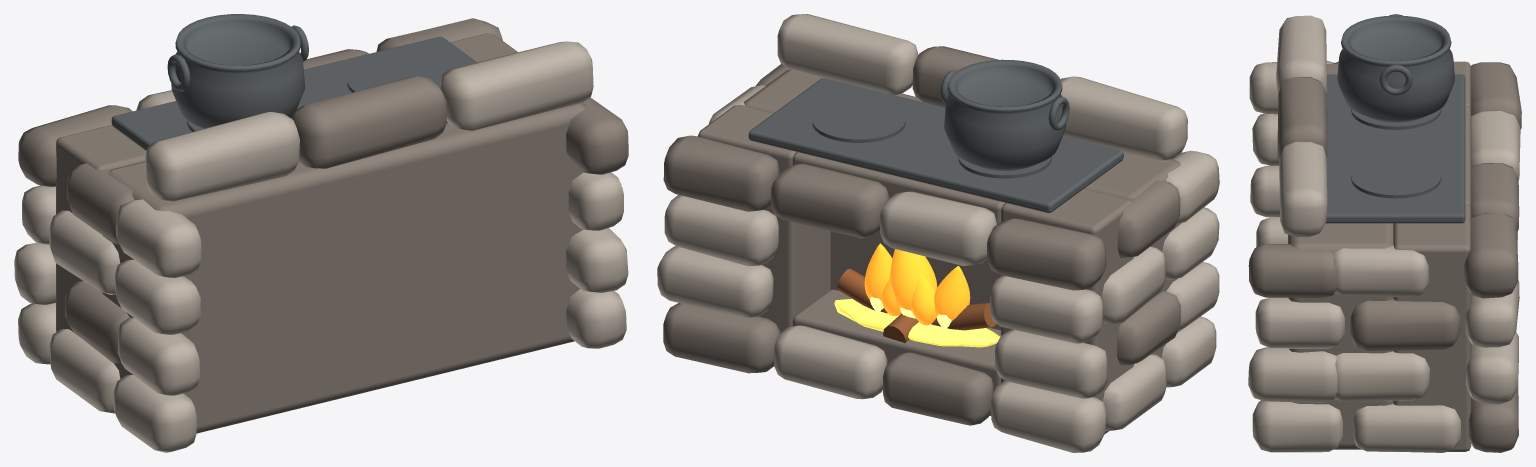
File: PROP_STOVE.glb
3 renders of one model, left to right at view 1: azimuth 30°, elevation 25°; view 2: azimuth 150°, elevation 25°; view 3: azimuth 270°, elevation 25°, orthographic. The views are drawn at different scales.
Parts seen in each view (by area): view 1: core, stones, stones_dark, pot, hob, burner_1, pot_handle_1; view 2: stones, stones_dark, core, hob, pot, fire_flames, burner_1, fire_embers, fire_logs, burner_0; view 3: stones, stones_dark, core, hob, pot, burner_1, burner_0, pot_handle_0.
Boxes of the visible parts, <box> form: core: <box>56,33,586,433</box>; stones: <box>14,41,628,452</box>; stones_dark: <box>18,18,628,363</box>; pot: <box>171,14,305,128</box>; hob: <box>111,36,476,150</box>; burner_1: <box>347,58,445,92</box>; pot_handle_1: <box>167,54,190,91</box>; stones: <box>657,14,1219,452</box>; stones_dark: <box>663,46,1180,425</box>; core: <box>698,69,1182,434</box>; hob: <box>748,78,1123,212</box>; pot: <box>944,59,1066,170</box>; fire_flames: <box>864,243,970,325</box>; burner_1: <box>812,100,905,142</box>; fire_embers: <box>834,298,1000,347</box>; fire_logs: <box>837,268,996,343</box>; burner_0: <box>958,156,1051,178</box>; stones: <box>1248,15,1520,452</box>; stones_dark: <box>1248,61,1521,452</box>; core: <box>1288,61,1471,451</box>; hob: <box>1325,74,1465,223</box>; pot: <box>1337,15,1454,122</box>; burner_1: <box>1351,157,1441,198</box>; burner_0: <box>1351,108,1441,129</box>; pot_handle_0: <box>1379,65,1412,95</box>.
Bounding box in the file's own units: 8.13 × 5.3 × 4.55.
